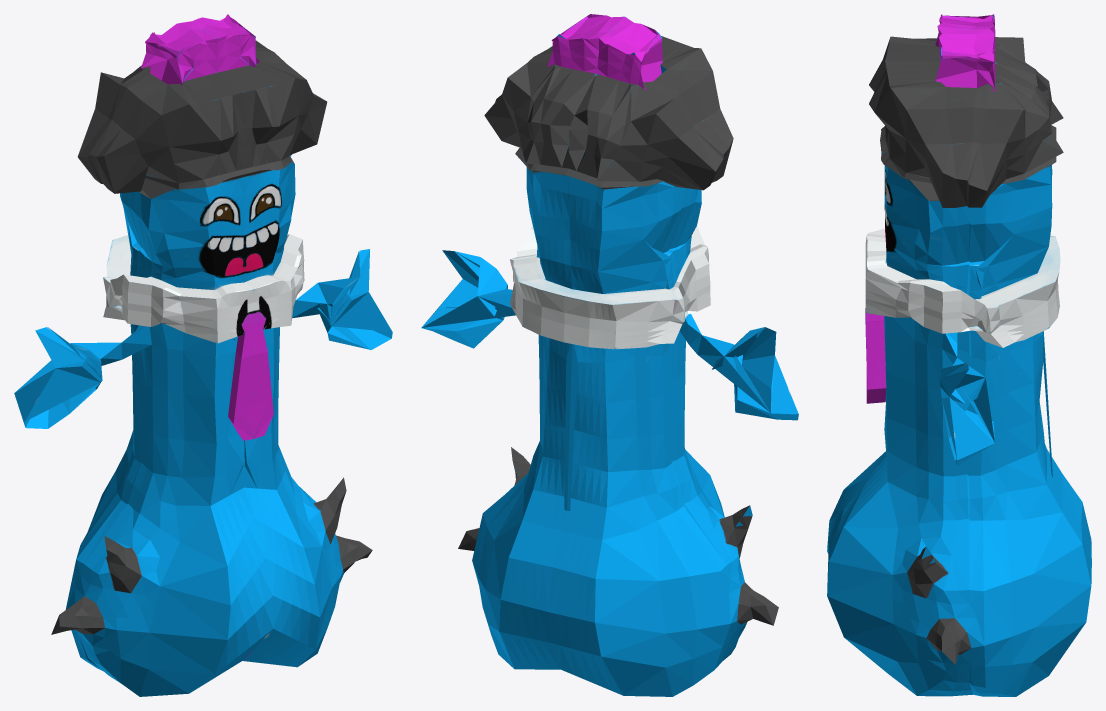
The model's file is fraldo2.glb.
The picture shows the model from 3 angles, left to right: view 1: azimuth 30°, elevation 25°; view 2: azimuth 150°, elevation 25°; view 3: azimuth 270°, elevation 25°; orthographic projection.
Parts seen in each view (by area): view 1: Cube; view 2: Cube; view 3: Cube.
Part boxes in pixels (<box>): Cube: <box>14,14,392,696</box>; Cube: <box>421,14,798,696</box>; Cube: <box>827,14,1091,696</box>.
Bounding box in the file's own units: 0.8008 × 1.31 × 0.5011.
1 material, 1 textured.
